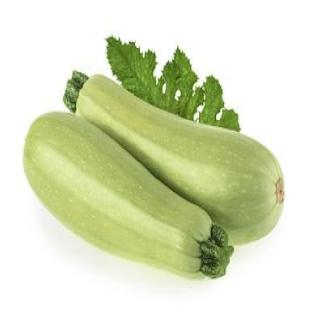Zucchini: (64, 72, 283, 243), (24, 113, 232, 277)
